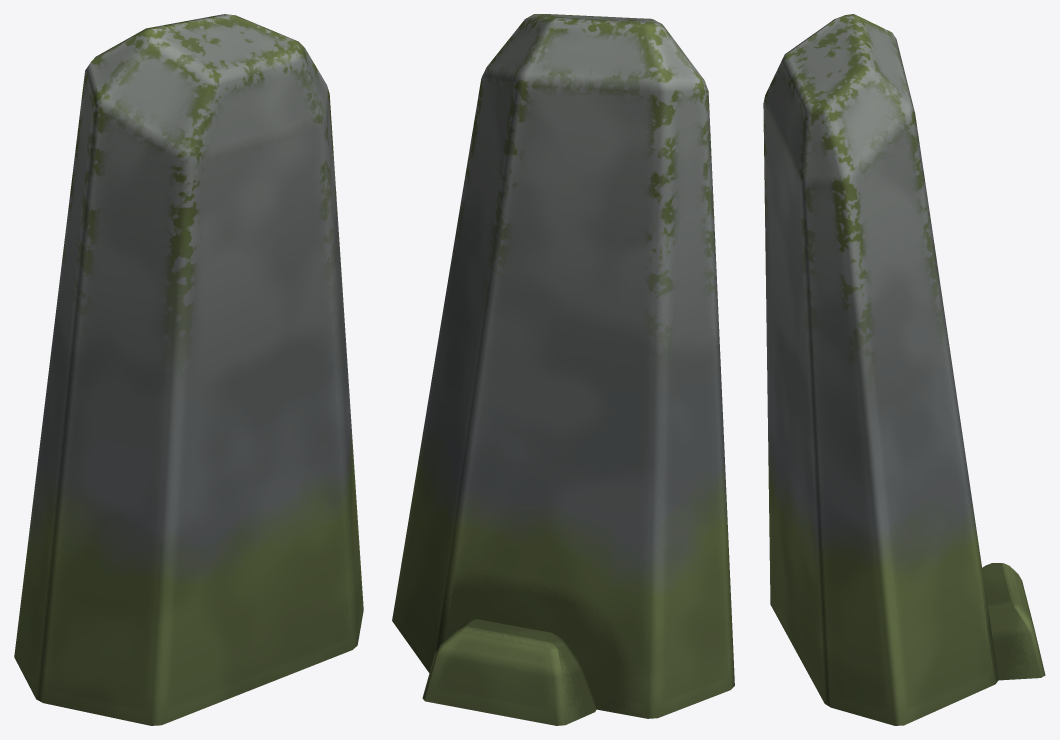
Rendered from standing_stone_1_mossy.glb.
3 renders of one model, left to right at view 1: azimuth 30°, elevation 25°; view 2: azimuth 150°, elevation 25°; view 3: azimuth 270°, elevation 25°, orthographic. The views are drawn at different scales.
Visible parts, largest first — view 1: standing_stone_1_mossy; view 2: standing_stone_1_mossy; view 3: standing_stone_1_mossy.
Part boxes in pixels (x1,y1,x2,y2): standing_stone_1_mossy: [14, 14, 363, 725]; standing_stone_1_mossy: [392, 14, 734, 725]; standing_stone_1_mossy: [763, 14, 1045, 725].
Size of the model in its own units: 1.4 by 2.6 by 1.1.
Materials: 1 (1 with a texture image).
